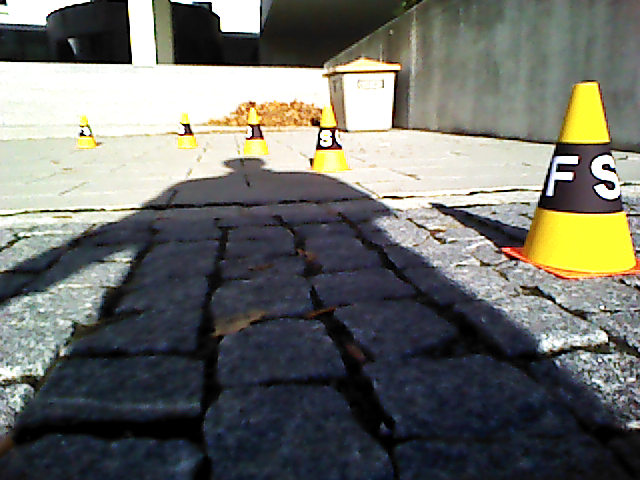yellowcone: (528, 84, 636, 271), (312, 107, 348, 172), (243, 109, 269, 157), (176, 114, 196, 149), (77, 116, 95, 150)
